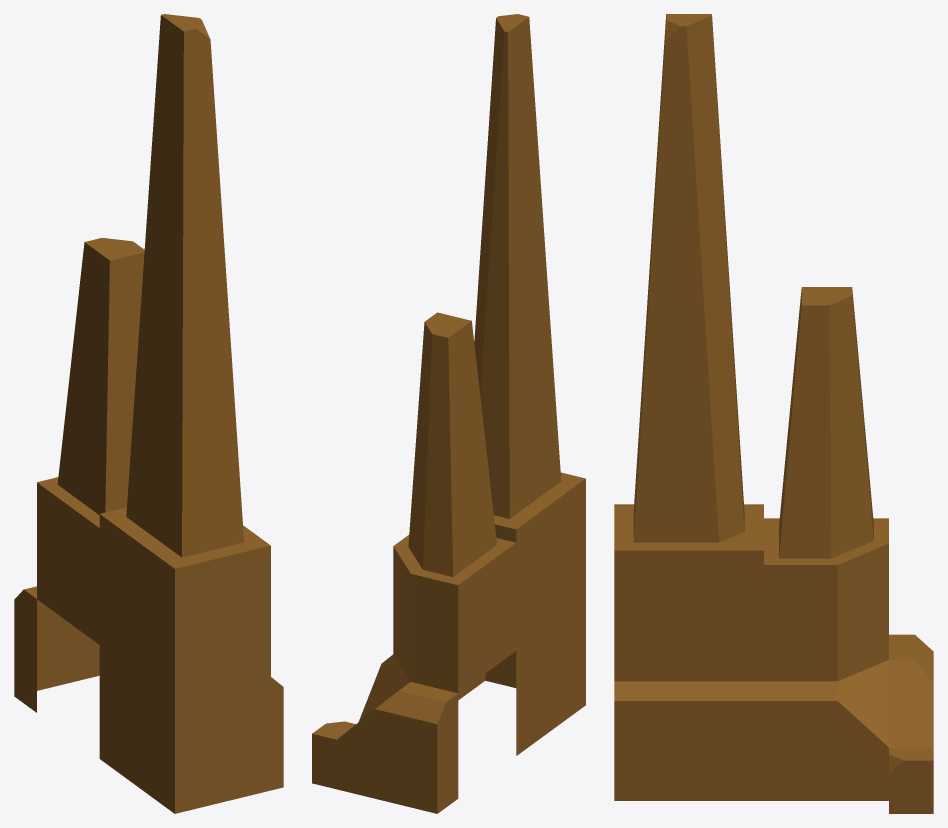
The model's file is cube_cliff.glb.
3 views of the same model, side by side, from view 1: azimuth 30°, elevation 25°; view 2: azimuth 150°, elevation 25°; view 3: azimuth 270°, elevation 25° (orthographic). The views are drawn at different scales.
Visible parts, largest first — view 1: cubesandcliff; view 2: cubesandcliff; view 3: cubesandcliff.
Boxes of the visible parts, x1,y1,x2,y2 form: cubesandcliff: [14, 14, 283, 813]; cubesandcliff: [312, 14, 585, 813]; cubesandcliff: [614, 14, 933, 813].
Bounding box in the file's own units: 6.44 × 34.27 × 13.21.
